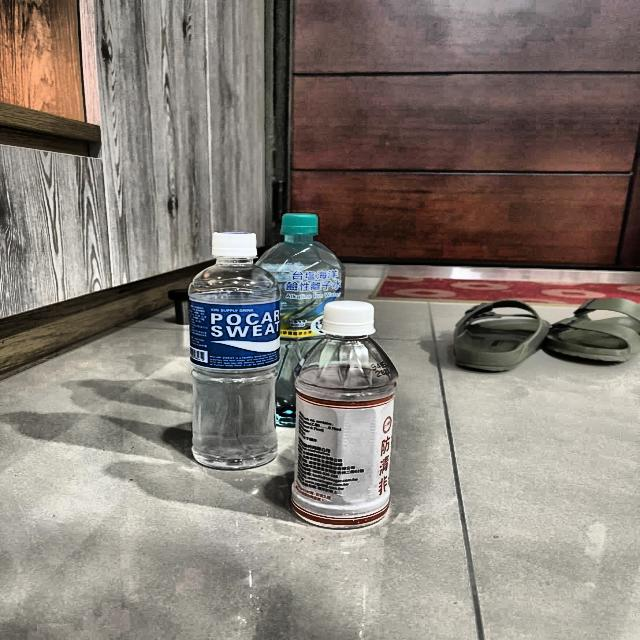Bottles: (290, 296, 400, 543), (179, 223, 280, 480)
